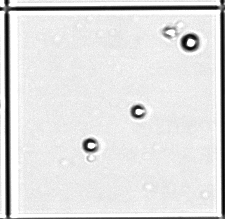Living Cell: (181, 33, 200, 51), (83, 137, 98, 153), (131, 104, 147, 118), (163, 26, 178, 38)
